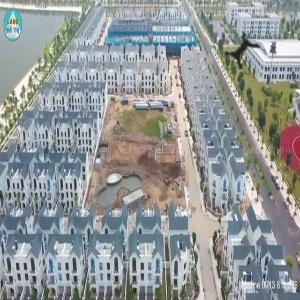drone: (204, 9, 286, 91)
